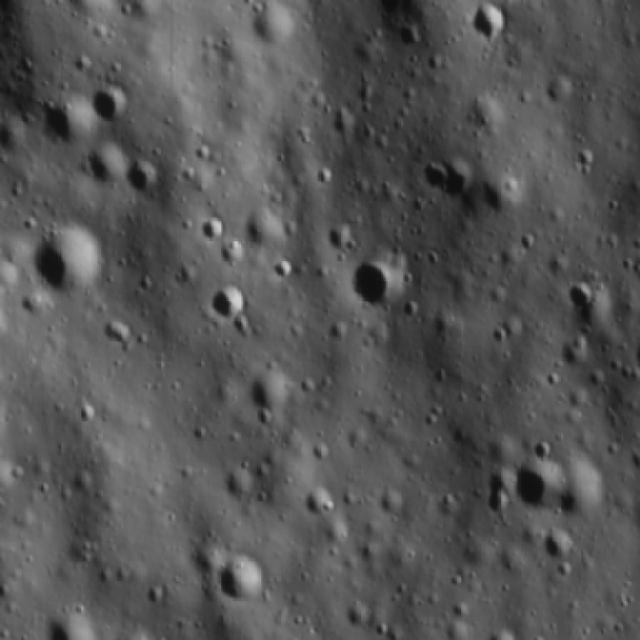crater: (32, 221, 116, 307), (338, 239, 404, 315), (210, 546, 276, 619), (502, 446, 564, 520), (552, 456, 605, 530), (414, 148, 474, 208), (36, 92, 98, 150), (239, 358, 298, 418), (200, 272, 258, 330), (246, 0, 296, 51), (463, 0, 508, 51), (39, 606, 104, 640), (535, 65, 577, 117), (558, 273, 602, 321), (125, 154, 166, 201), (92, 87, 134, 131), (298, 480, 339, 522), (314, 216, 354, 258), (538, 533, 578, 572), (618, 331, 640, 383), (475, 624, 521, 640), (491, 0, 542, 3)
